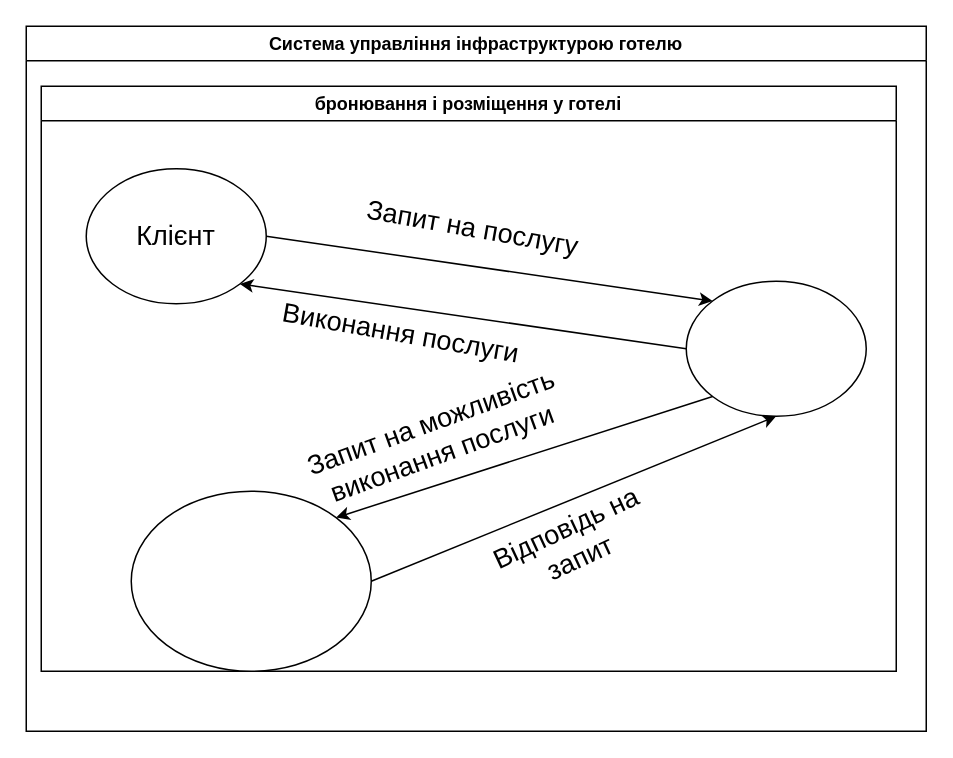
Some shapes in this 953 by 758 pixel diagram are drawn without their labels. Each missing label, with the centre of its shape:
Готель: the point at 250,580
Персонал: the point at 775,348
